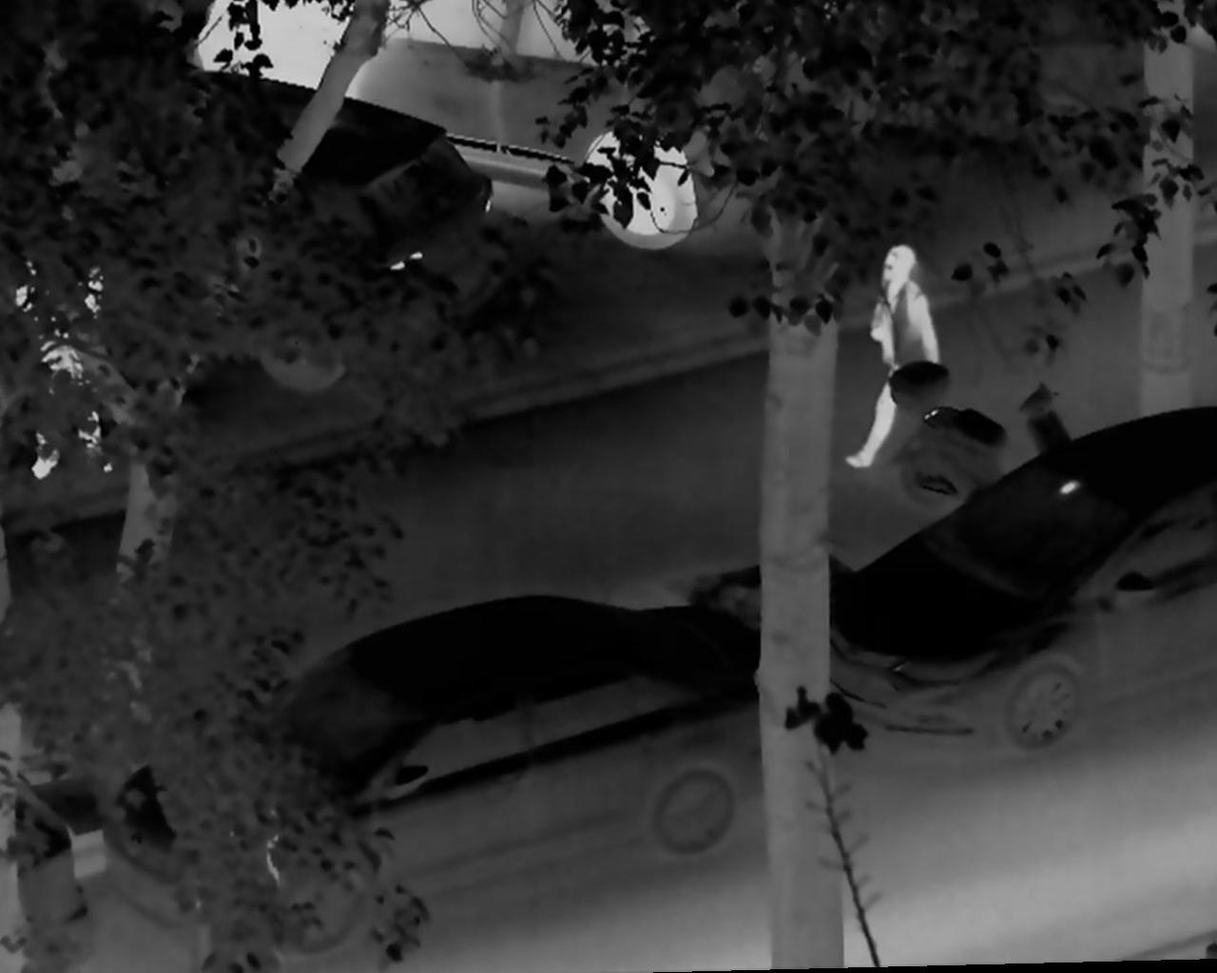person: (13, 203, 126, 485), (840, 245, 950, 469)
